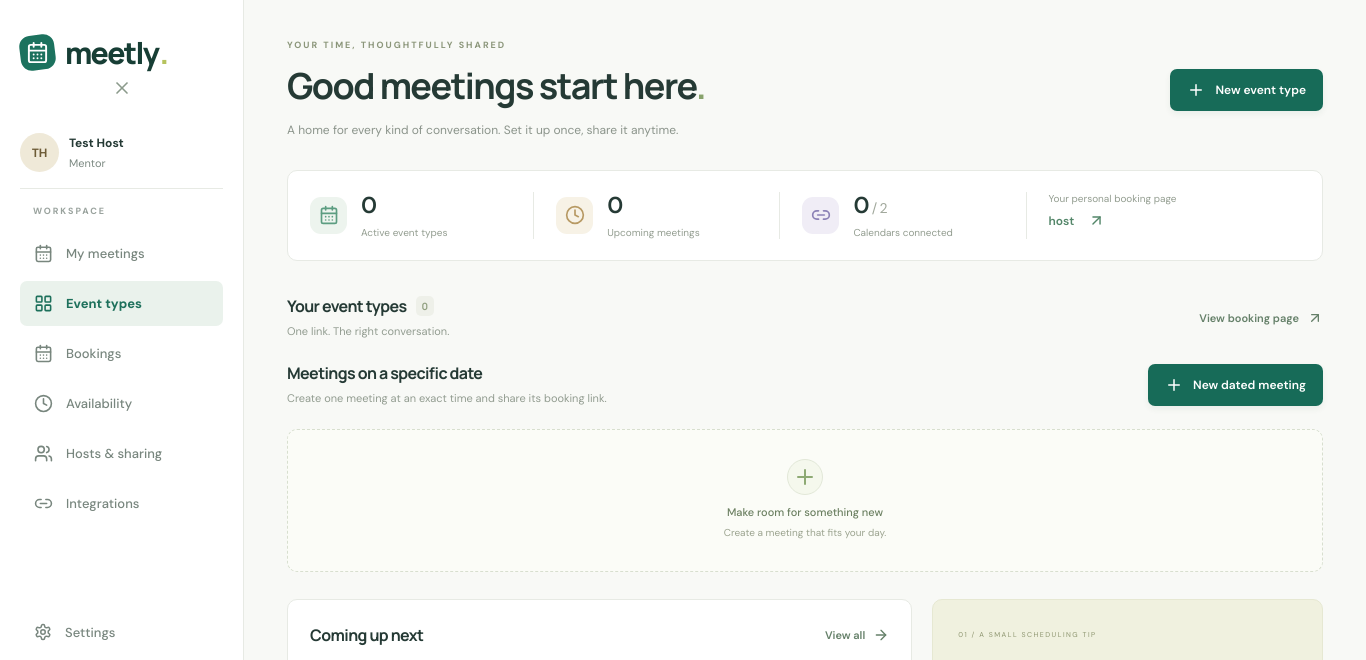
round-robin picker uses the prefix host-search API and displays the host role
The width and height of the screenshot is (1366, 660).
(page scrolled)
Click the button "New dated meeting" at [1236, 385], box [1148,364,1323,406]
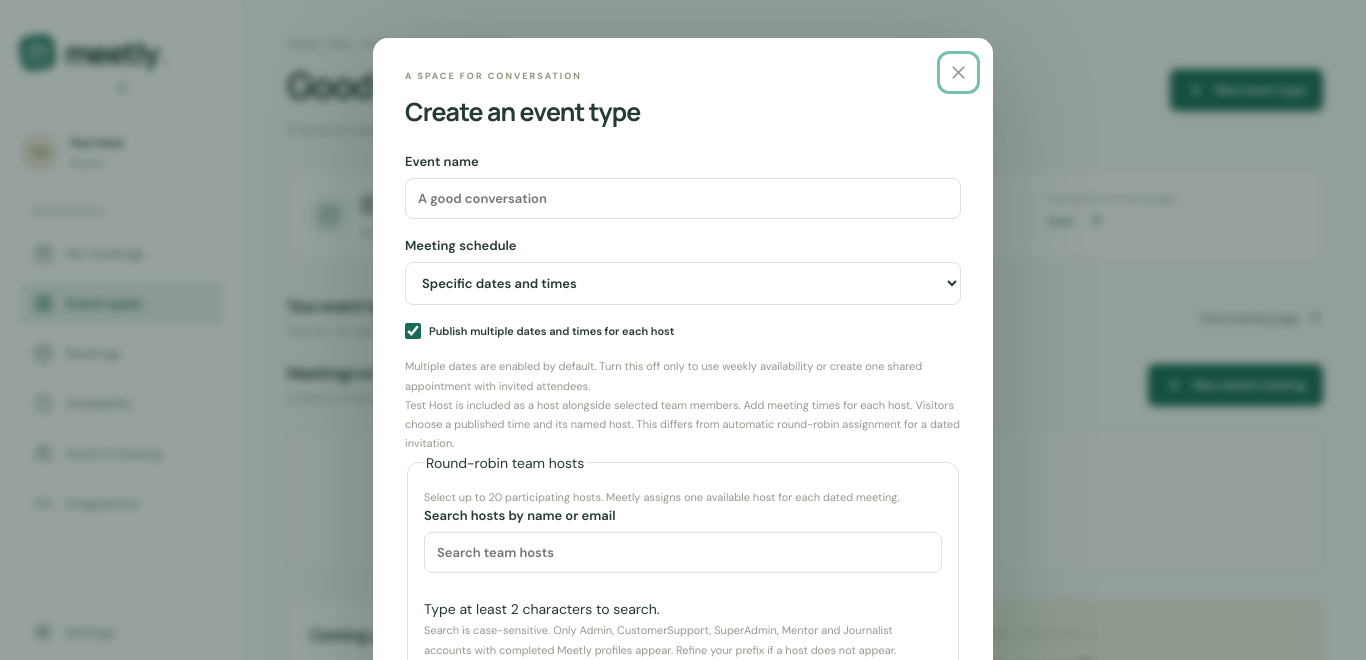
Click the checkbox labelled "Publish multiple dates and times for each host" at [413, 331], box [405,323,421,339]
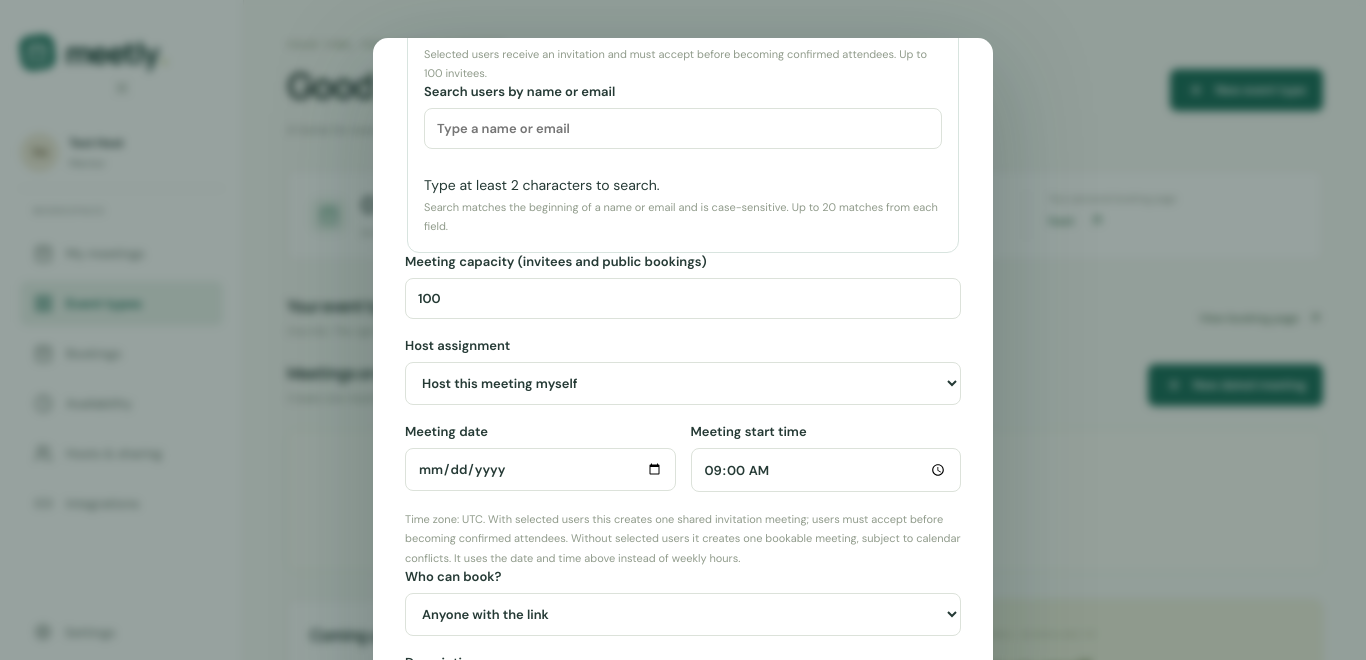
Select "Round robin — assign an available team host" in the dropdown labelled "Host assignment" at [683, 384], box [405,362,961,405]
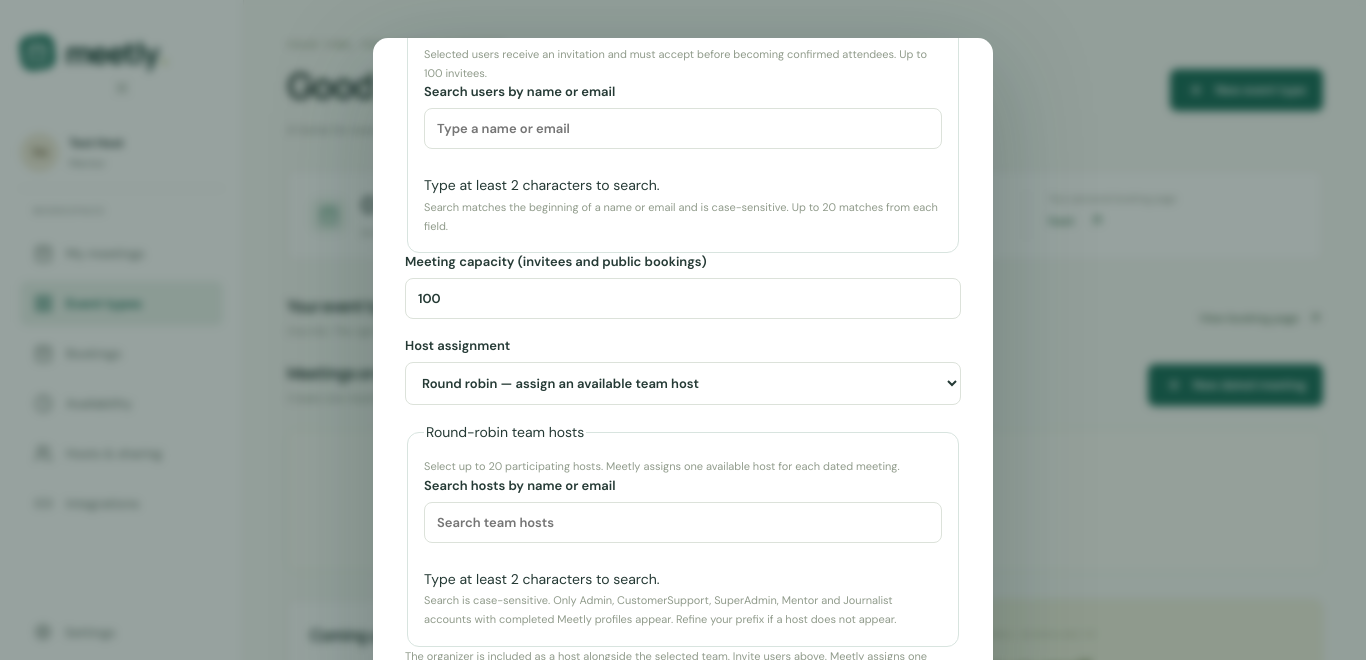
Type "Te" into the field with placeholder "Search team hosts" at [683, 522], box [424,502,942,543]
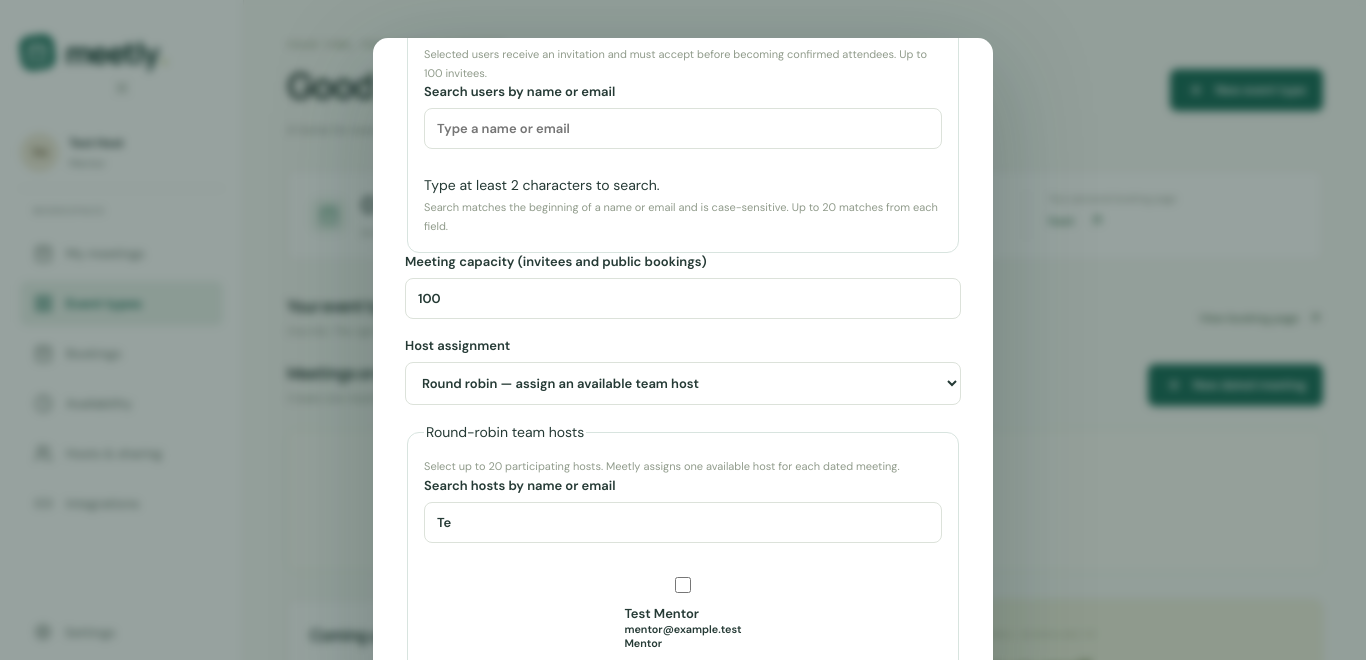
Expected: the checkbox labelled "Test Mentor mentor@example.test Mentor" is shown, [674,577,692,593]
Expected: the text "Mentor" is shown, [624,636,662,650]
